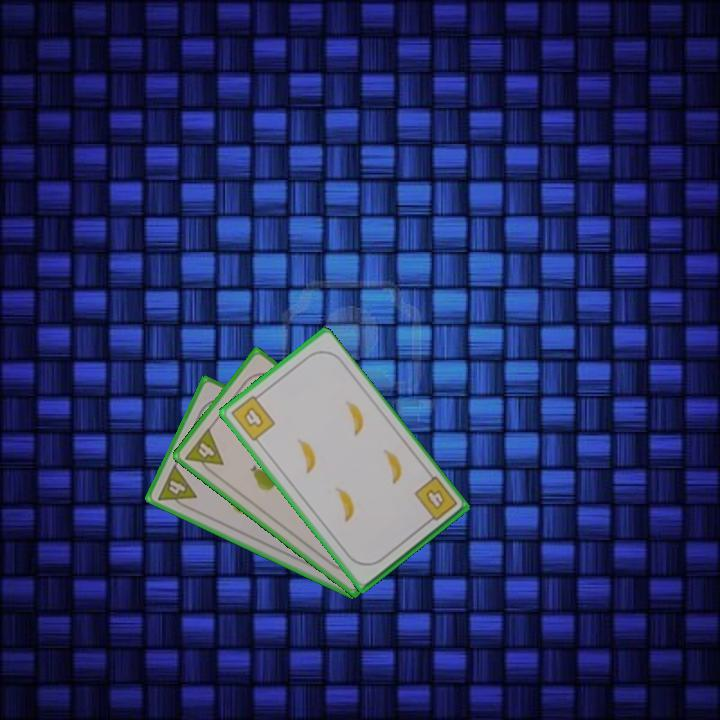4b: (227, 389, 278, 444), (410, 473, 460, 528)
4p: (181, 424, 226, 479), (154, 461, 199, 513)
